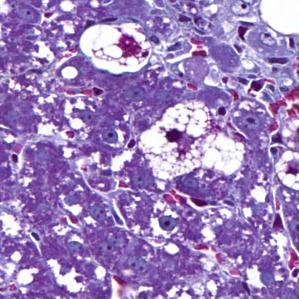ballooning: (139, 96, 248, 192), (77, 21, 156, 76)
